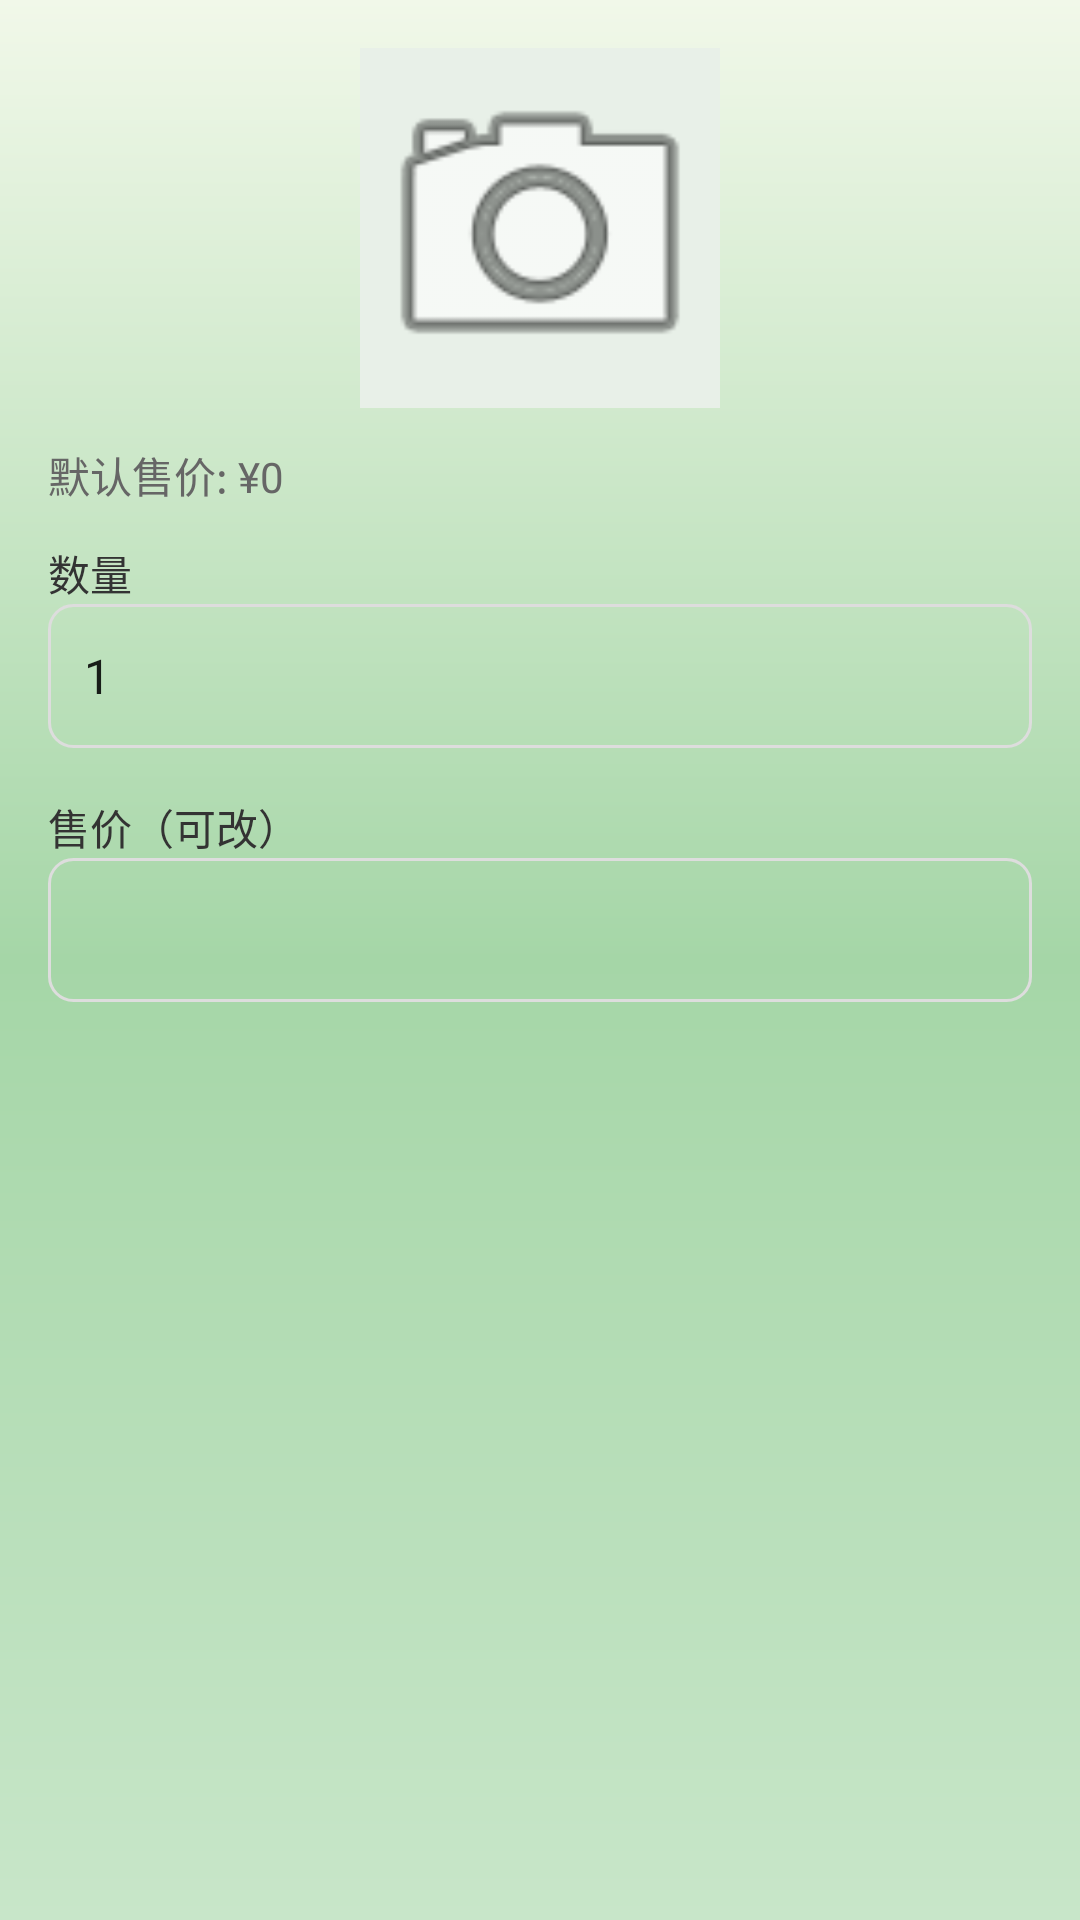

Named icons in this screenshot (1080x1920) and their centers, (x,y):
camera: (540,222)
